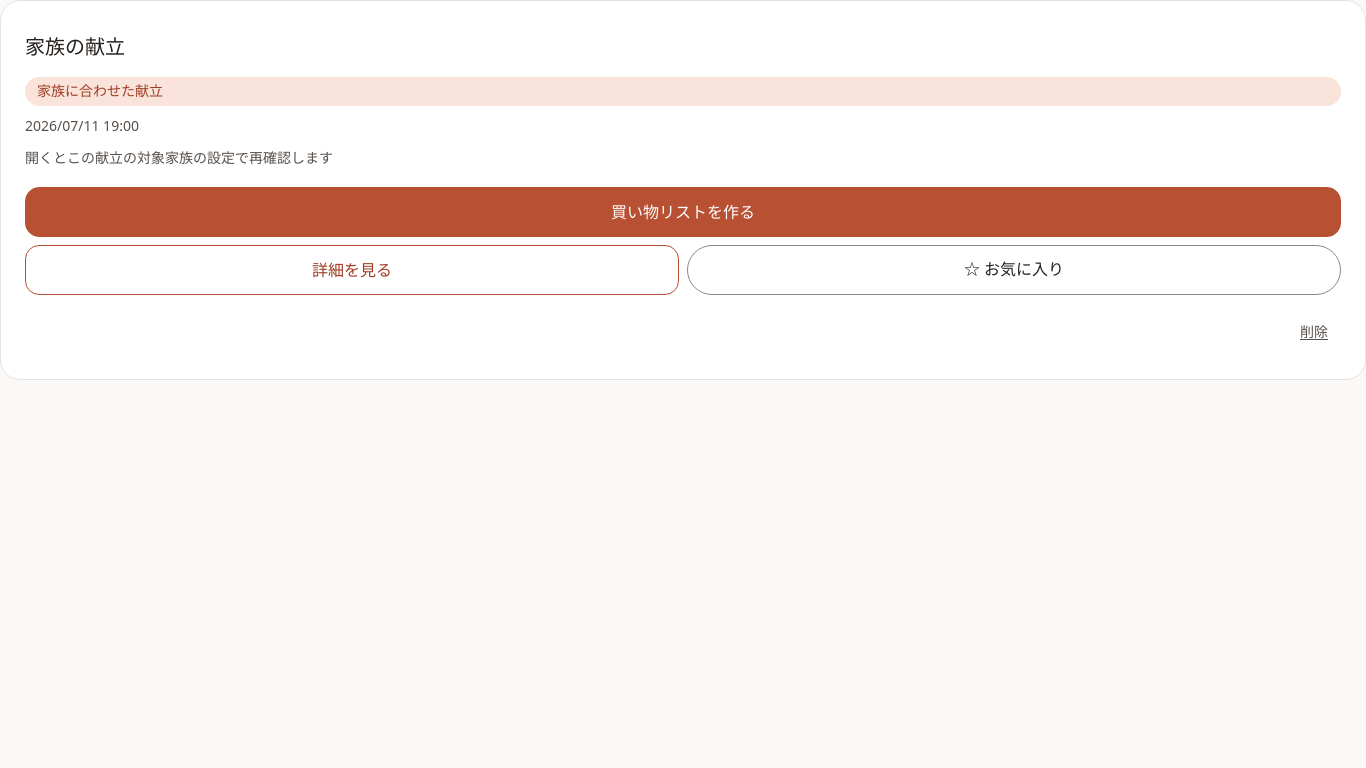
it: HistoryCard action layout (UX U5) › renders delete as a quiet text button that still opens the confirm dialog
This screenshot has width=1366, height=768.
Click the button with aria-label "この履歴を削除" at [1314, 332], box [1287,310,1341,354]
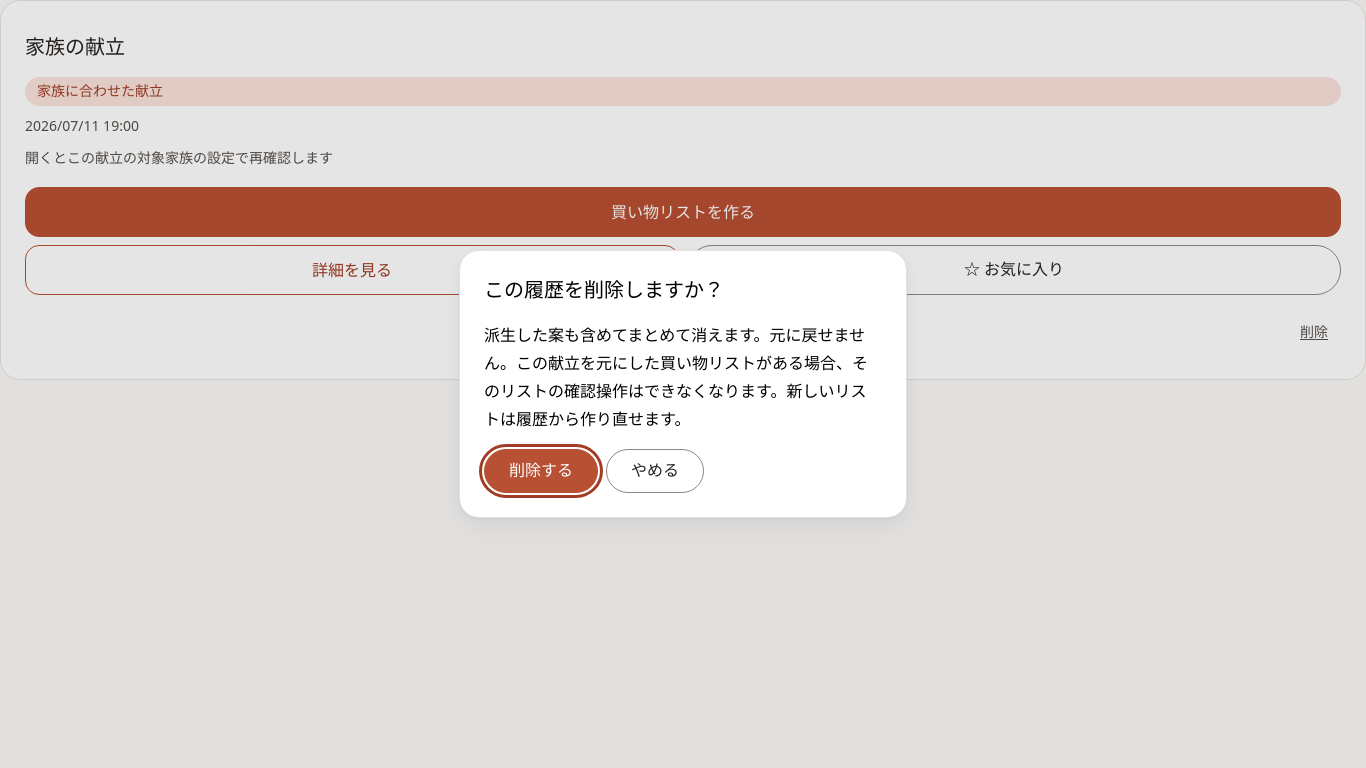
Now the dialog "この履歴を削除しますか？" is shown, box [459,250,907,518]
